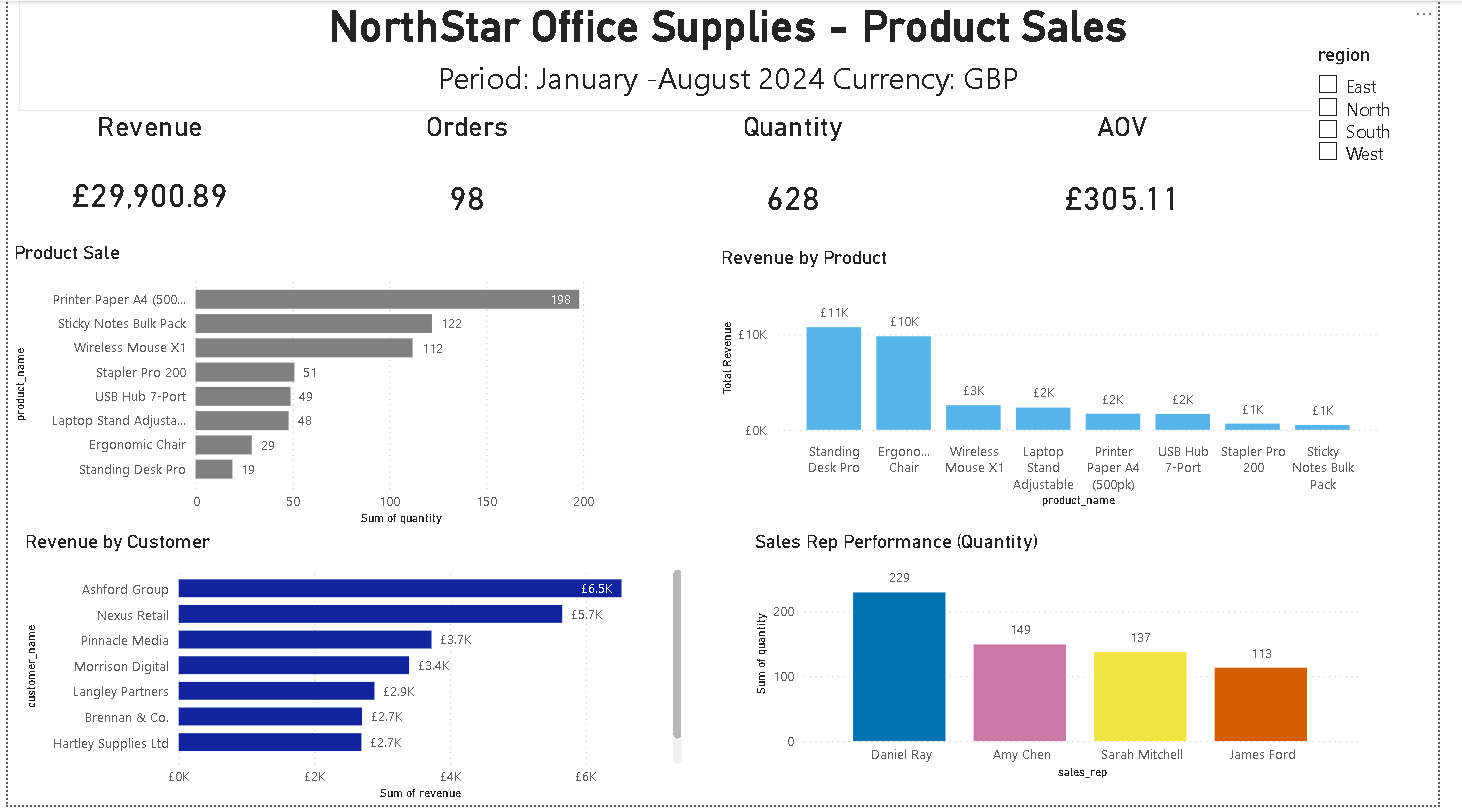

What the dashboard file says about the page in this screenshot:
{"tool":"powerbi","page":{"name":"ProductSales","canvas":[1280,720],"ordinal":3},"visuals":[{"type":"textbox","title":"NorthStar Office Supplies - Product Sales","box":[9.7,0,1270.3,98.2],"z":0},{"type":"clusteredBarChart","title":"Product Sale","fields":{"Category":["sales_data_cleaned.product_name"],"Y":["Sum(sales_data_cleaned.quantity)"]},"box":[0,214.6,551.5,258.9],"z":1000},{"type":"clusteredBarChart","title":"Revenue by Customer","fields":{"Category":["sales_data_cleaned.customer_name"],"Y":["Sum(sales_data_cleaned.revenue)"]},"box":[9.8,473.5,598.5,246.5],"z":2000},{"type":"columnChart","title":"Revenue by Product","fields":{"Y":["sales_data_cleaned.Total Revenue"],"Category":["sales_data_cleaned.product_name"]},"box":[633.1,219,599.4,237.6],"z":3000},{"type":"listSlicer","fields":{"Values":["sales_data_cleaned.region"]},"box":[1167.8,37.2,112.6,197.7],"z":4000},{"type":"card","title":"Revenue","fields":{"Values":["sales_data_cleaned.Total Revenue"]},"box":[20.4,98.4,212.8,120.6],"z":5000},{"type":"card","title":"Orders","fields":{"Values":["sales_data_cleaned.Total Orders"]},"box":[304.1,98.4,213.7,120.6],"z":6000},{"type":"card","title":"Quantity","fields":{"Values":["Sum(sales_data_cleaned.quantity)"]},"box":[596.7,98.4,212.8,120.6],"z":7000},{"type":"card","title":"AOV","fields":{"Values":["sales_data_cleaned.Average Order Value"]},"box":[891.1,98.4,213.7,120.6],"z":8000},{"type":"columnChart","title":"Sales Rep Performance (Quantity)","fields":{"Category":["sales_data_cleaned.sales_rep"],"Y":["Sum(sales_data_cleaned.quantity)"]},"box":[663.3,473.5,551.5,227],"z":9000}]}

Visuals, with their boxes in screenshot pixels (x1, y1, x2, y2), scaled from the page's 1280x720 canvas onto the 1462x810 screenshot:
"NorthStar Office Supplies - Product Sales" textbox: (x1=11, y1=0, x2=1461, y2=110)
"Product Sale" clusteredBarChart: (x1=0, y1=241, x2=630, y2=533)
"Revenue by Customer" clusteredBarChart: (x1=11, y1=533, x2=695, y2=809)
"Revenue by Product" columnChart: (x1=723, y1=246, x2=1408, y2=514)
listSlicer - sales_data_cleaned.region: (x1=1334, y1=42, x2=1461, y2=264)
"Revenue" card: (x1=23, y1=111, x2=266, y2=246)
"Orders" card: (x1=347, y1=111, x2=591, y2=246)
"Quantity" card: (x1=682, y1=111, x2=925, y2=246)
"AOV" card: (x1=1018, y1=111, x2=1262, y2=246)
"Sales Rep Performance (Quantity)" columnChart: (x1=758, y1=533, x2=1388, y2=788)
